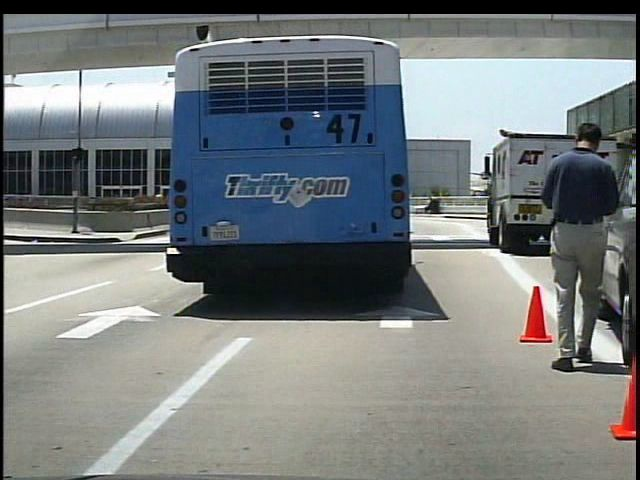person: (538, 118, 621, 372)
